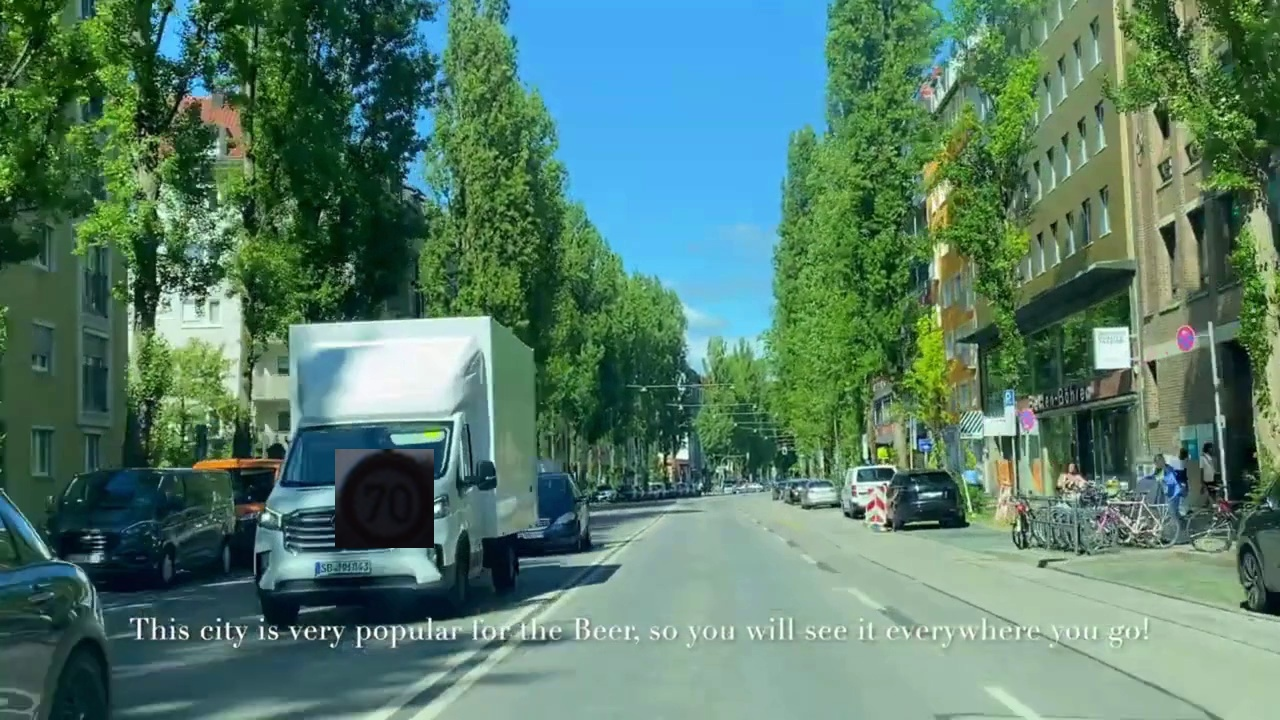Speed 70: (335, 449, 434, 548)
